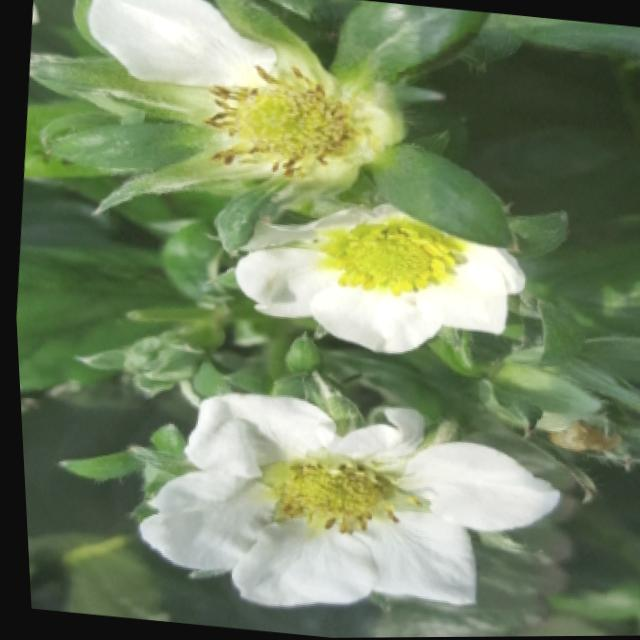Blossom Blight: (195, 60, 365, 183), (242, 450, 432, 542)
